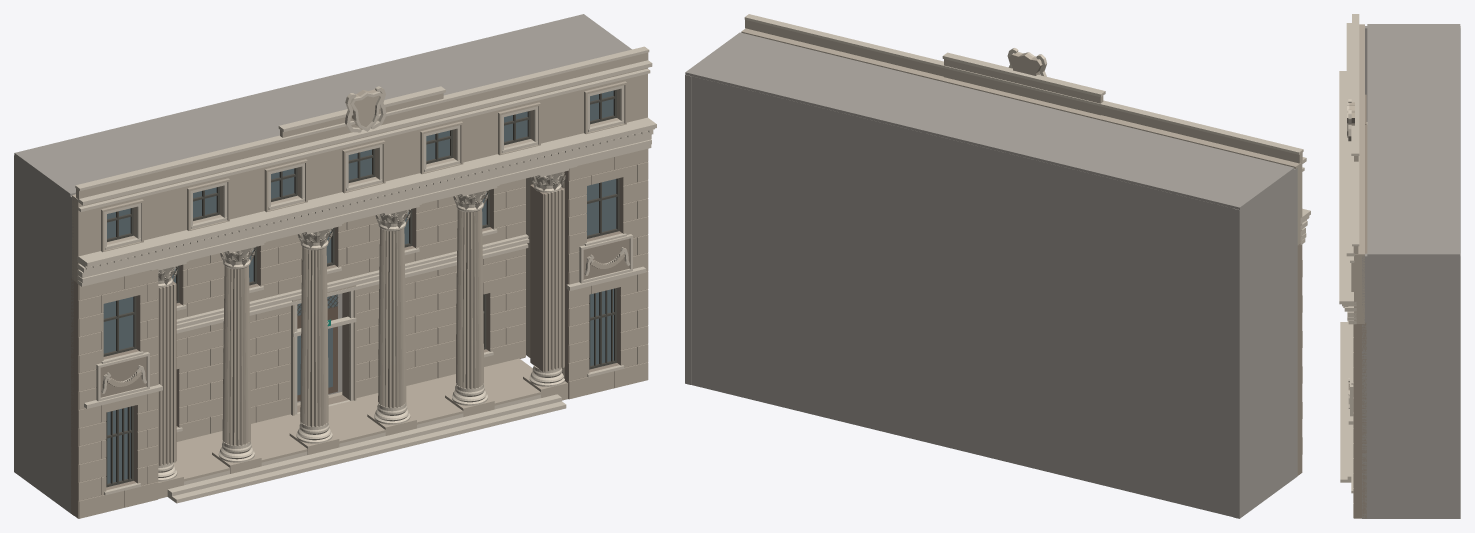
The model's file is huangpu-bankers-association-building-web.glb.
3 views of the same model, side by side, from view 1: azimuth 30°, elevation 25°; view 2: azimuth 150°, elevation 25°; view 3: azimuth 270°, elevation 25° (orthographic). The views are drawn at different scales.
Visible parts, largest first — view 1: 银行公会大楼（香港路五开间柱廊）; view 2: 银行公会大楼（香港路五开间柱廊）; view 3: 银行公会大楼（香港路五开间柱廊）.
Boxes of the visible parts, x1=… form: 银行公会大楼（香港路五开间柱廊）: x1=14, y1=14, x2=656, y2=518; 银行公会大楼（香港路五开间柱廊）: x1=685, y1=14, x2=1310, y2=518; 银行公会大楼（香港路五开间柱廊）: x1=1339, y1=14, x2=1460, y2=518.
Size of the model in its own units: 21.54 by 13.06 by 4.81.
